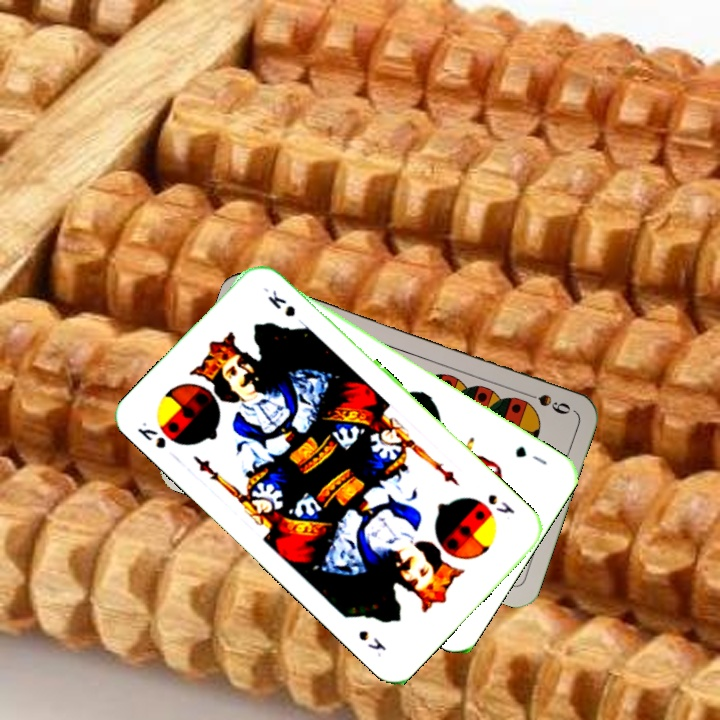GU: (511, 441, 550, 468)
S9: (517, 387, 573, 417)
SK: (133, 418, 169, 452), (484, 490, 518, 517)
